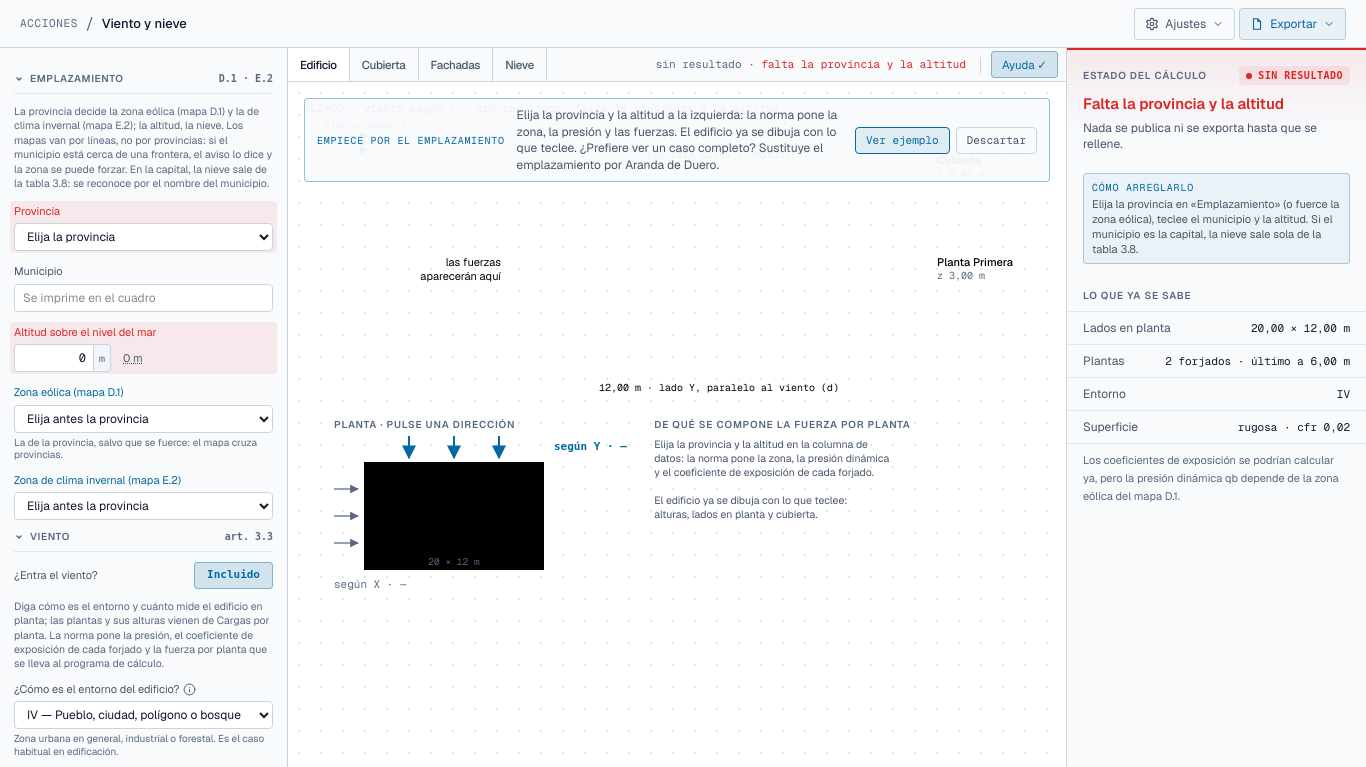
Test: exportación › con huecos, exportar avisa en vez de abrir el modal
Click the button "Exportar" at (1293, 24), box [1239, 8, 1346, 40]
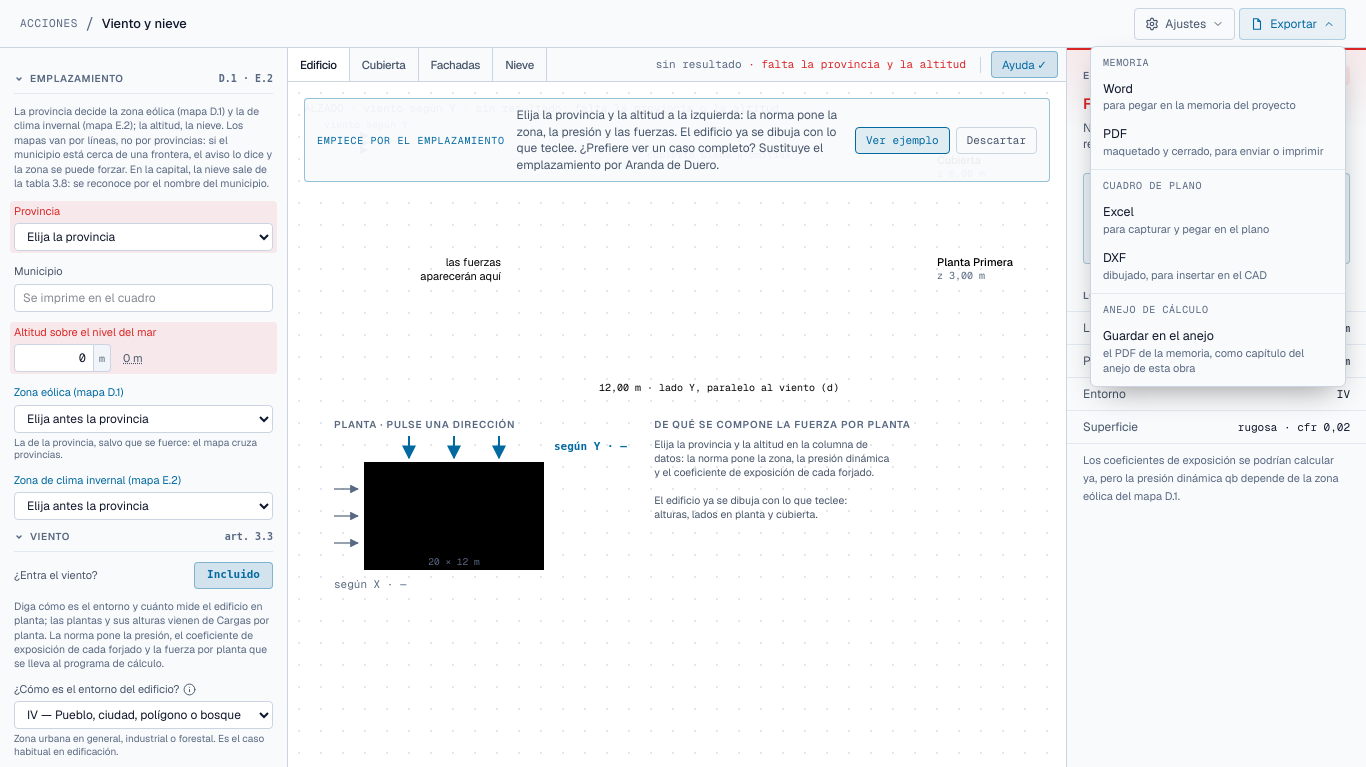
Click the menu item "Word para pegar en la memoria del proyecto" at (1218, 96), box [1091, 74, 1345, 119]
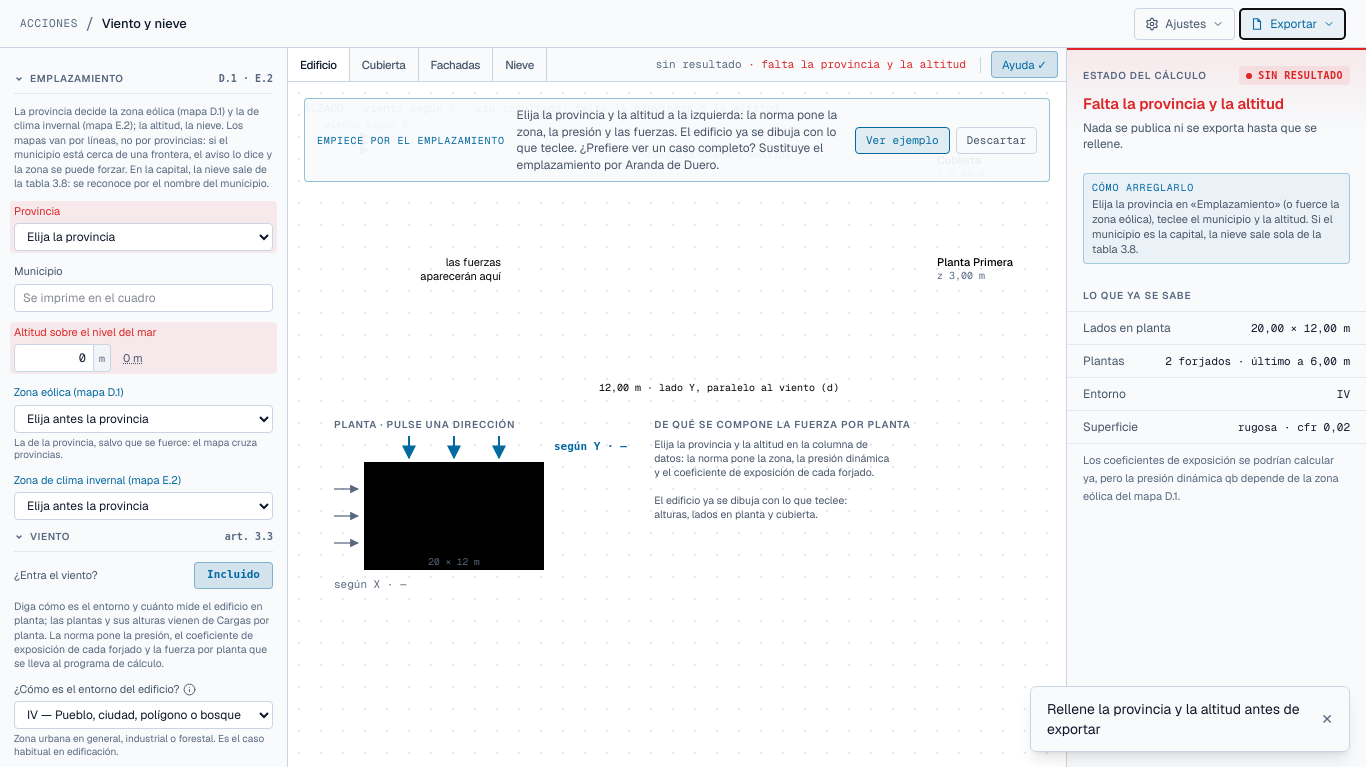
expect the text "Rellene la provincia y la altitud antes de exportar" is shown: met, box [1047, 699, 1309, 739]
